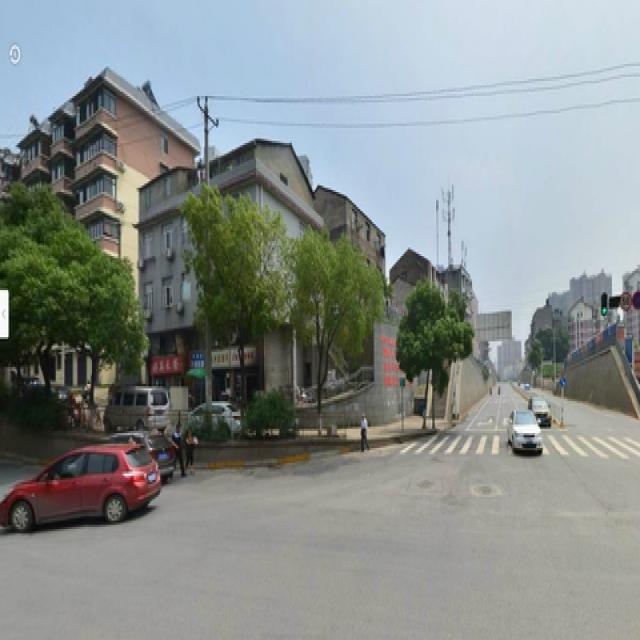cinn: (63, 239, 119, 410), (411, 292, 444, 420)
